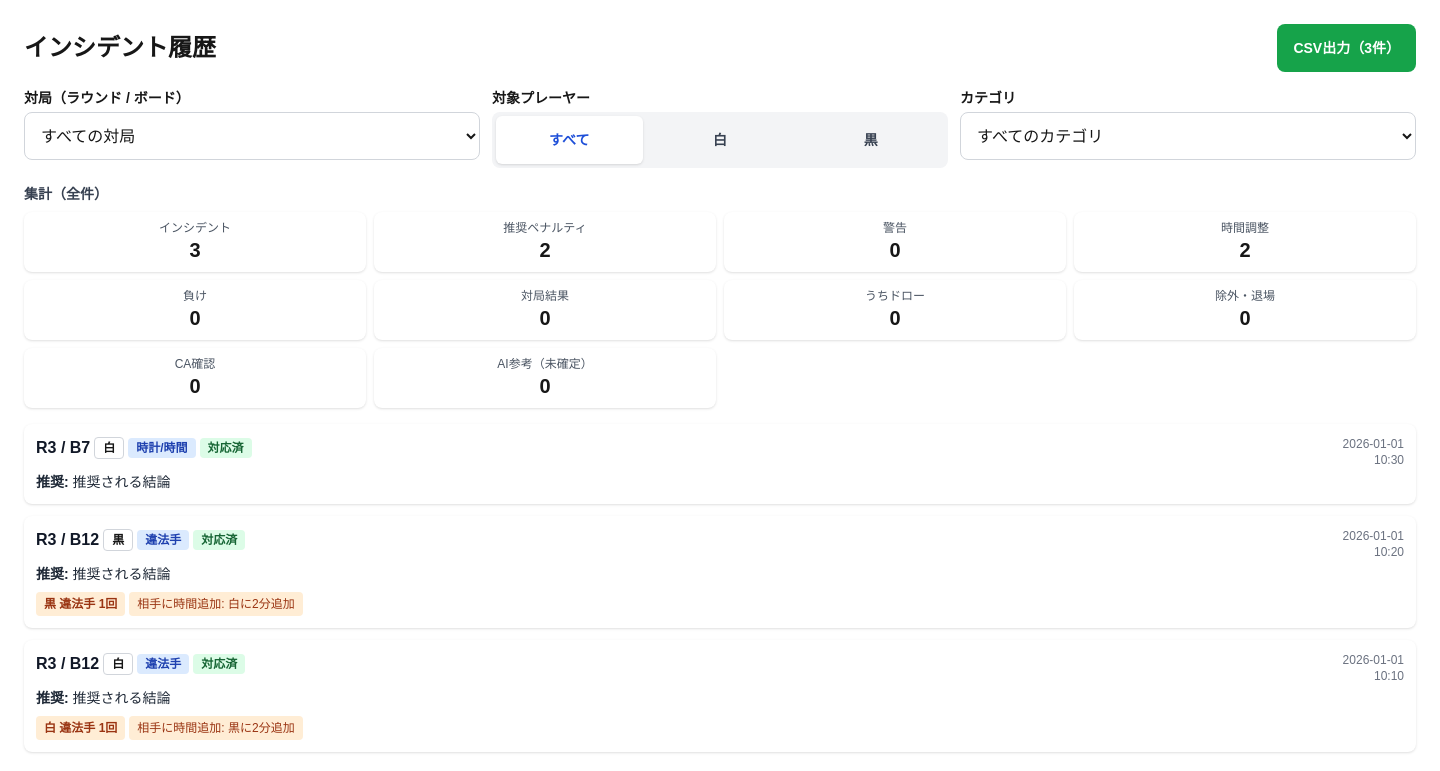
IncidentLogView › filters by game and updates the summary and penalty history
Select "R3 / B7 ・2026-01-01 (1)" in the dropdown labelled "対局（ラウンド / ボード）". click: [252, 136]
box: [24,112,480,160]
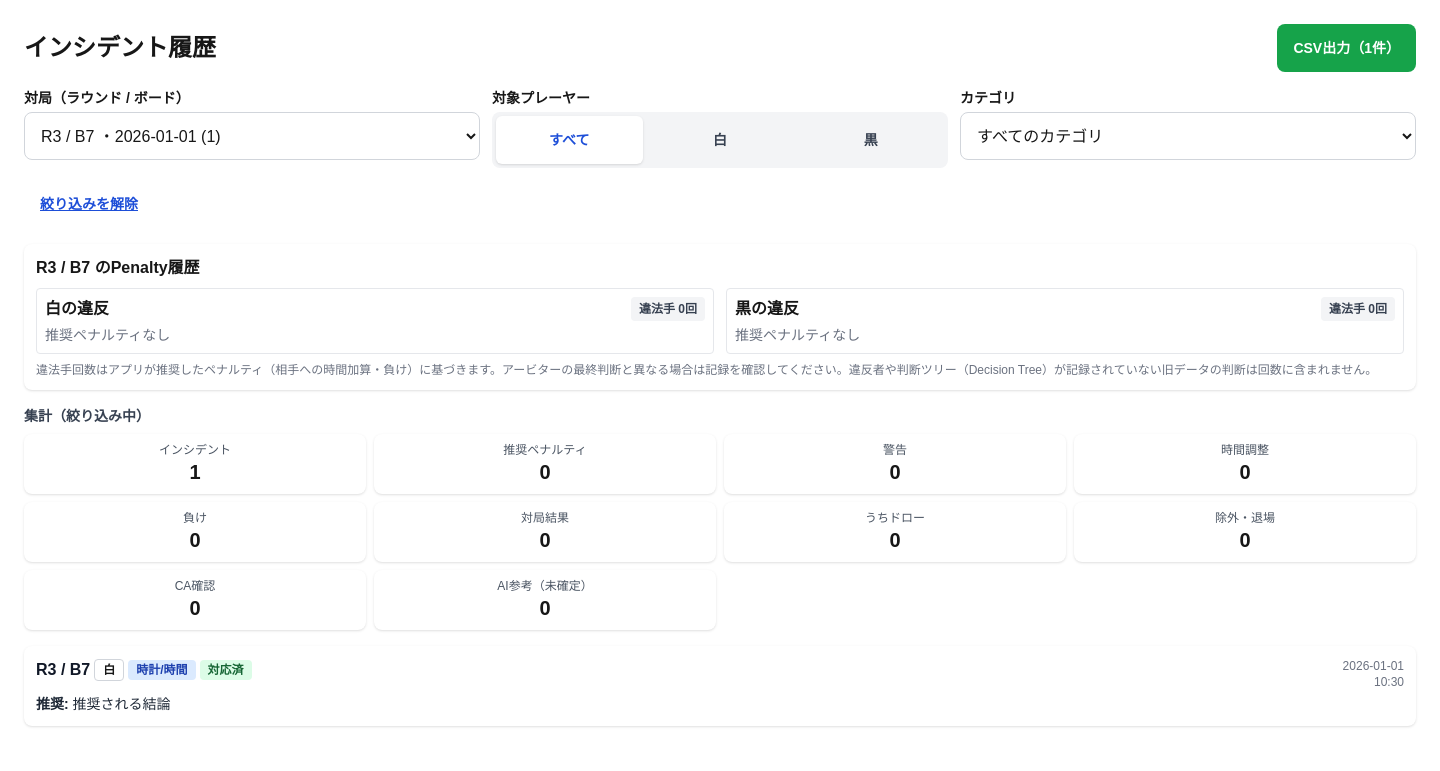
Now the heading "集計（絞り込み中）" is shown, box [24,408,150,424]
Now the 1st text "0" is shown, box [539,461,550,483]
Select "R3 / B12 ・2026-01-01 (2)" in the dropdown labelled "対局（ラウンド / ボード）". click: [252, 136]
box: [24,112,480,160]
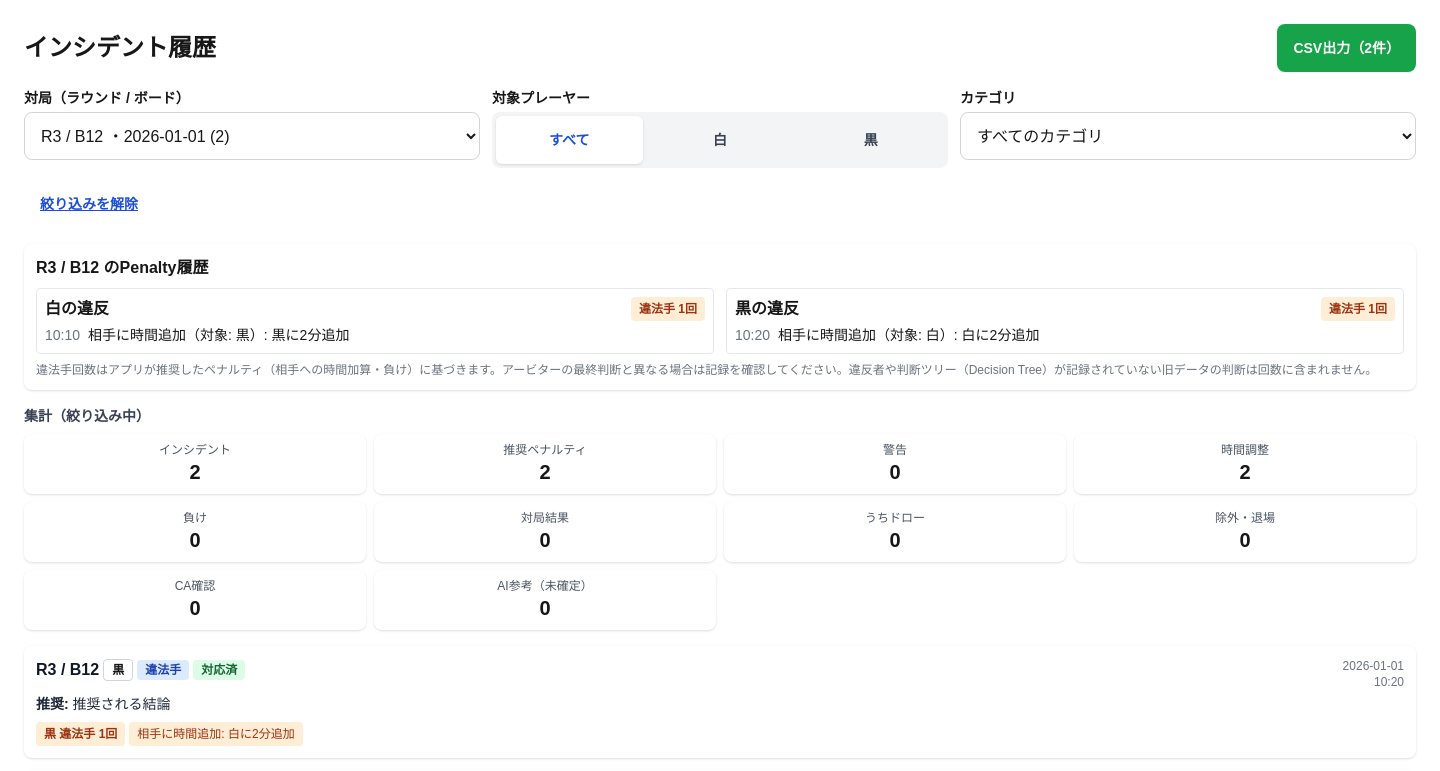
Now the text "違法手 1回" is shown 2 times, box [631,297,705,321]; [1321,297,1395,321]
